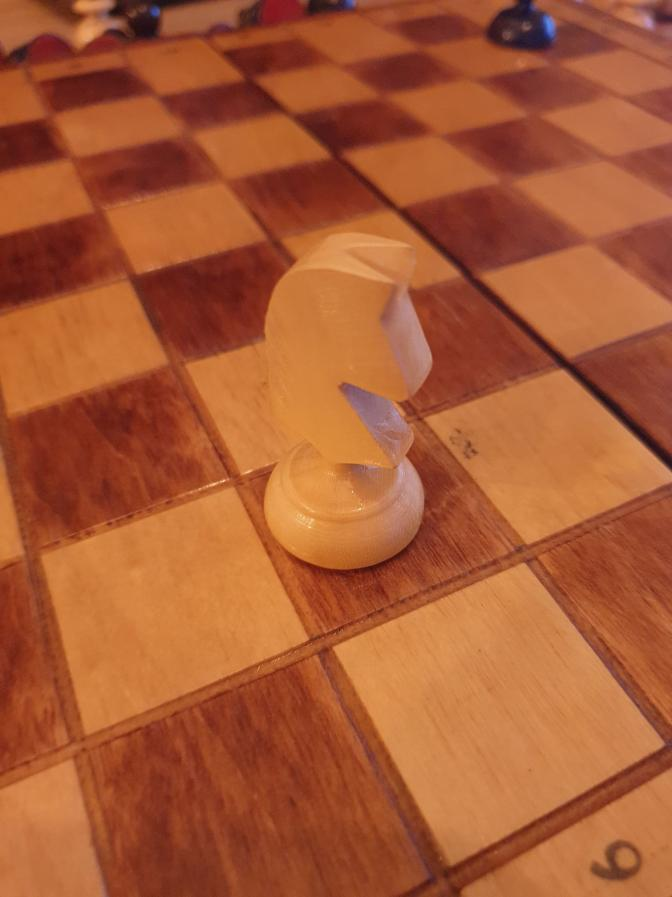wknight: (258, 231, 437, 573)
